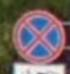No Parking: (13, 11, 66, 66)
